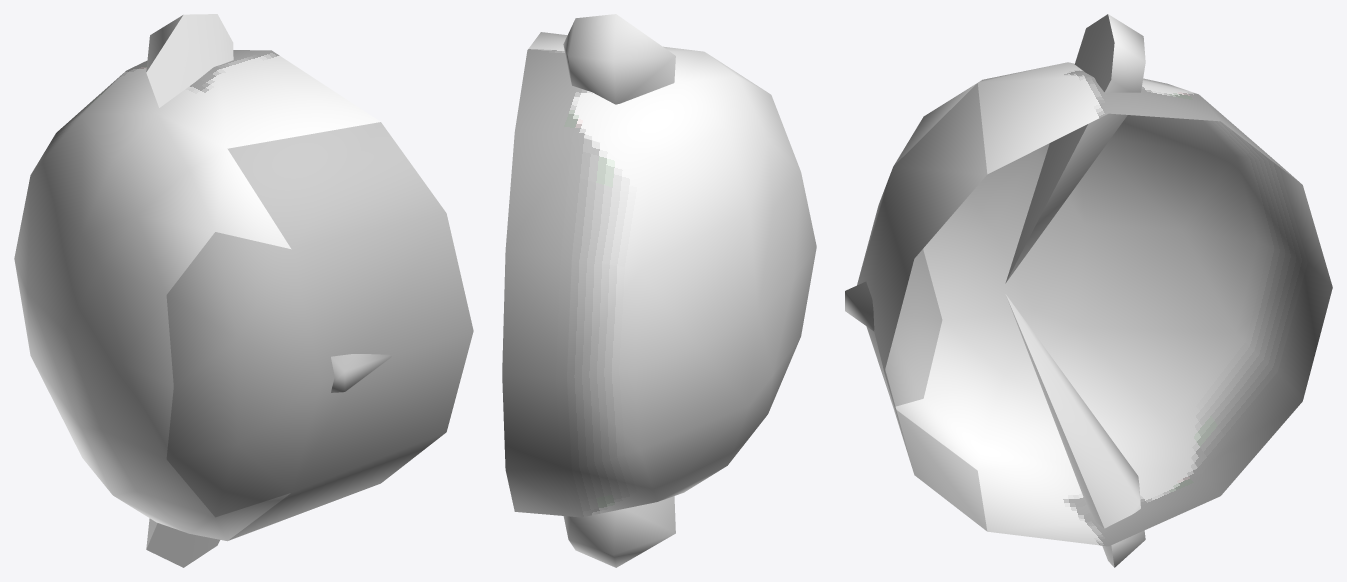
The model's file is boy00b.dae.
The picture shows the model from 3 angles, left to right: view 1: azimuth 30°, elevation 25°; view 2: azimuth 150°, elevation 25°; view 3: azimuth 270°, elevation 25°; orthographic projection.
Visible parts, largest first — view 1: vsn_mesh_0_, vsn_mesh_1_, vsn_mesh_2_; view 2: vsn_mesh_0_; view 3: vsn_mesh_0_, vsn_mesh_1_, vsn_mesh_2_.
Part boxes in pixels (x1,y1,x2,y2): vsn_mesh_0_: (14, 14, 380, 567); vsn_mesh_1_: (227, 122, 473, 540); vsn_mesh_2_: (166, 232, 321, 517); vsn_mesh_0_: (502, 14, 816, 567); vsn_mesh_0_: (894, 14, 1332, 567); vsn_mesh_1_: (845, 83, 987, 531); vsn_mesh_2_: (857, 169, 942, 406).
Size of the model in its own units: 15.5 by 26.71 by 21.59.
